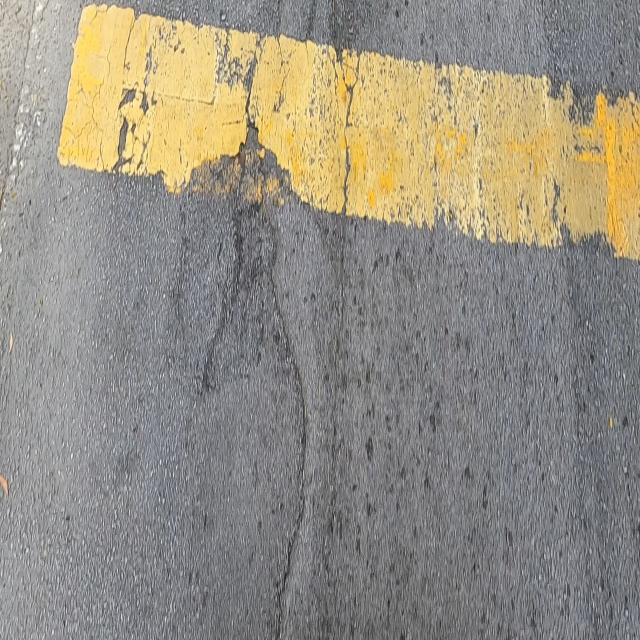Retak-Memanjang: (197, 62, 254, 405), (326, 52, 363, 510), (267, 248, 308, 638)
